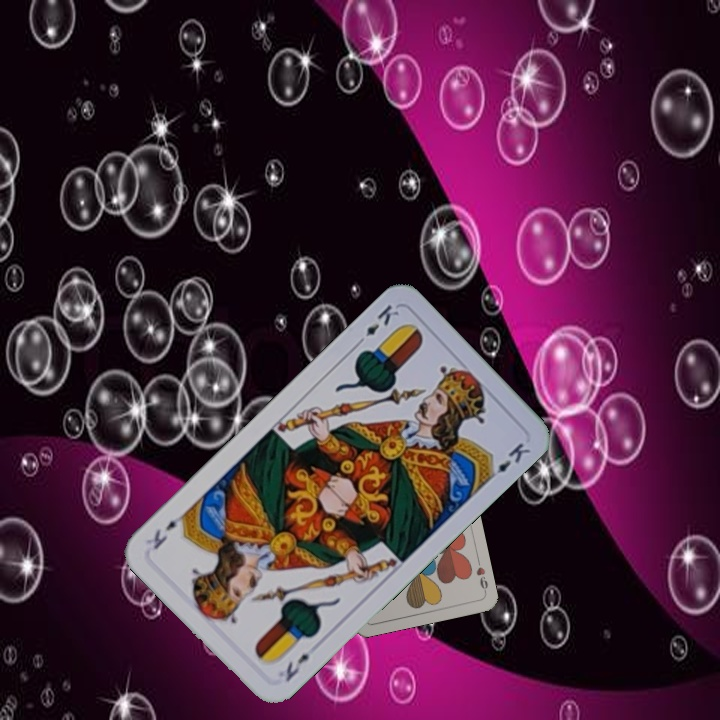EK: (351, 300, 402, 349), (281, 649, 313, 685)
H9: (472, 555, 491, 595)
